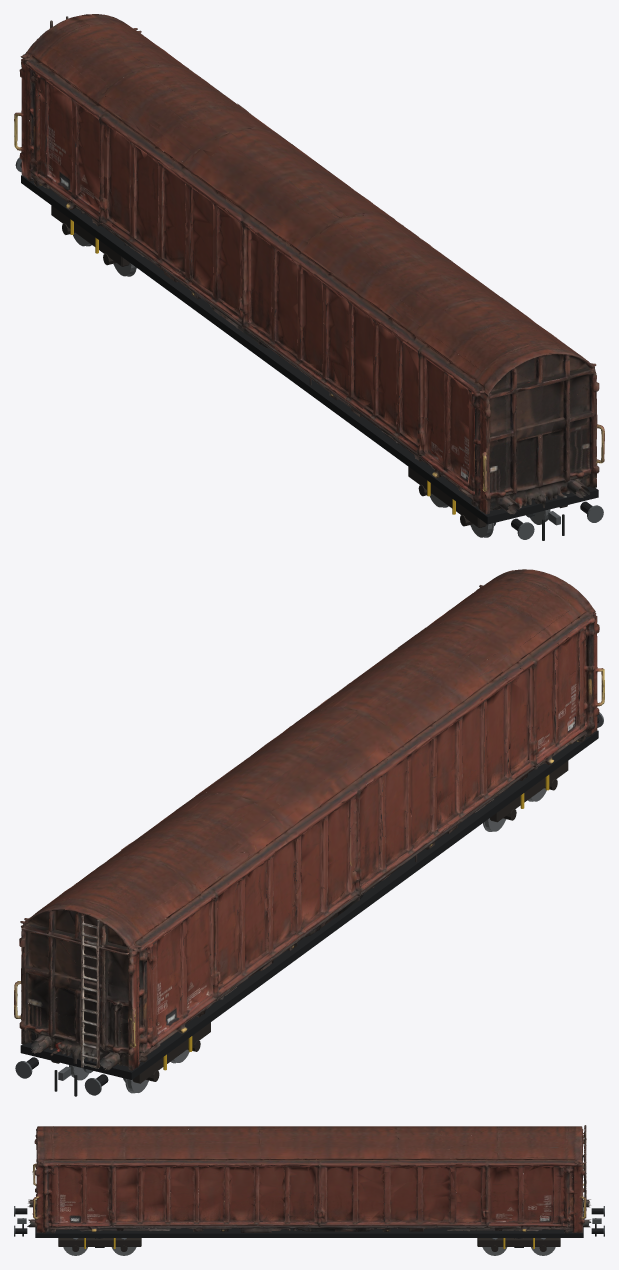
The model's file is hbb.glb.
3 views of the same model, one above another, from view 1: azimuth 30°, elevation 25°; view 2: azimuth 150°, elevation 25°; view 3: azimuth 270°, elevation 25° (orthographic). The views are drawn at different scales.
Parts seen in each view (by area): view 1: hbb_kori, hbb_frame, Bogie_R_side-1, Bogie_F_side-1; view 2: hbb_kori, hbb_frame, Bogie_F_side-1, Bogie_R_side-1; view 3: hbb_kori, hbb_frame, Bogie_F_side1, Bogie_R_side1.
Part boxes in pixels (box(x1,y1,x2,y2)): hbb_kori: box(14, 14, 604, 514); hbb_frame: box(21, 163, 598, 524); Bogie_R_side-1: box(51, 205, 129, 266); Bogie_F_side-1: box(408, 467, 486, 527); hbb_kori: box(14, 569, 604, 1070); hbb_frame: box(20, 709, 598, 1079); Bogie_F_side-1: box(490, 761, 568, 822); Bogie_R_side-1: box(132, 1022, 210, 1083); hbb_kori: box(27, 1125, 591, 1233); hbb_frame: box(35, 1203, 583, 1237); Bogie_F_side1: box(58, 1238, 141, 1246); Bogie_R_side1: box(477, 1238, 560, 1246).
Bounding box in the file's own units: 3.05 × 4.8 × 21.99.
Materials: 7 (1 with a texture image).
